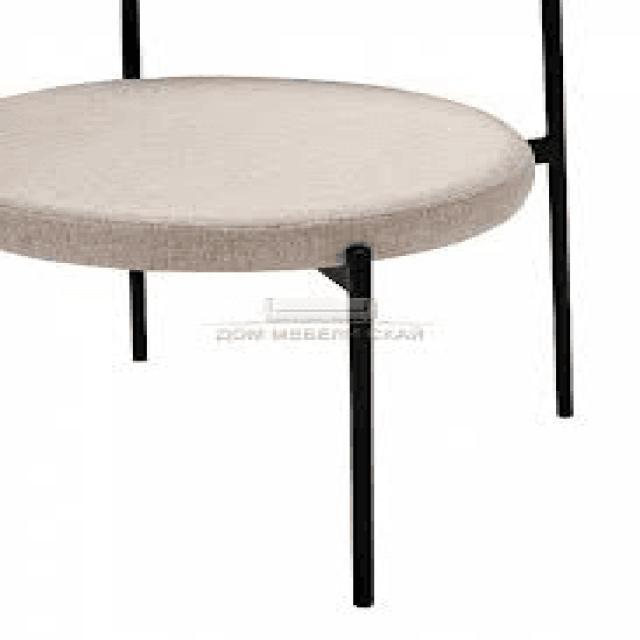chair: (0, 0, 579, 613), (0, 0, 566, 269)
